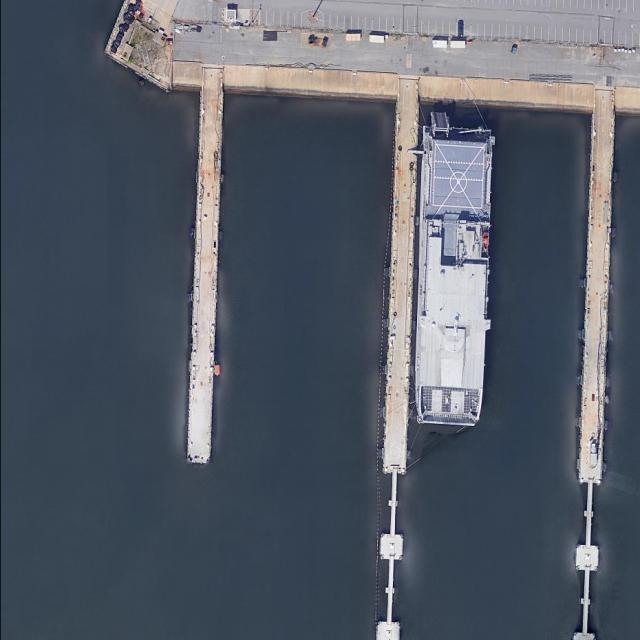Auxiliary Ships: (412, 126, 498, 426)
Dock: (378, 96, 419, 562), (576, 108, 616, 572), (186, 85, 225, 464)
